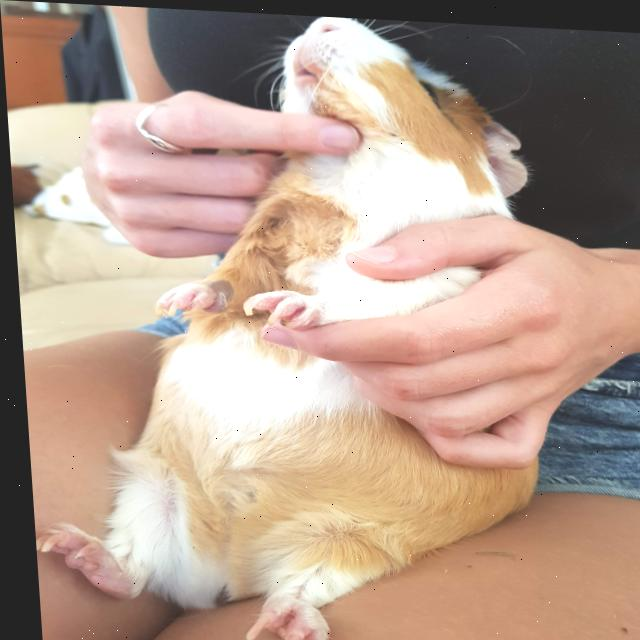guinea pig: (0, 0, 547, 640)
